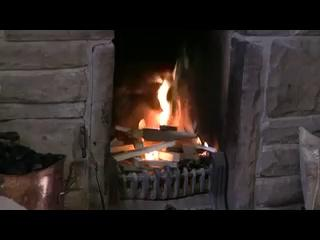Fire: (155, 72, 180, 126)
